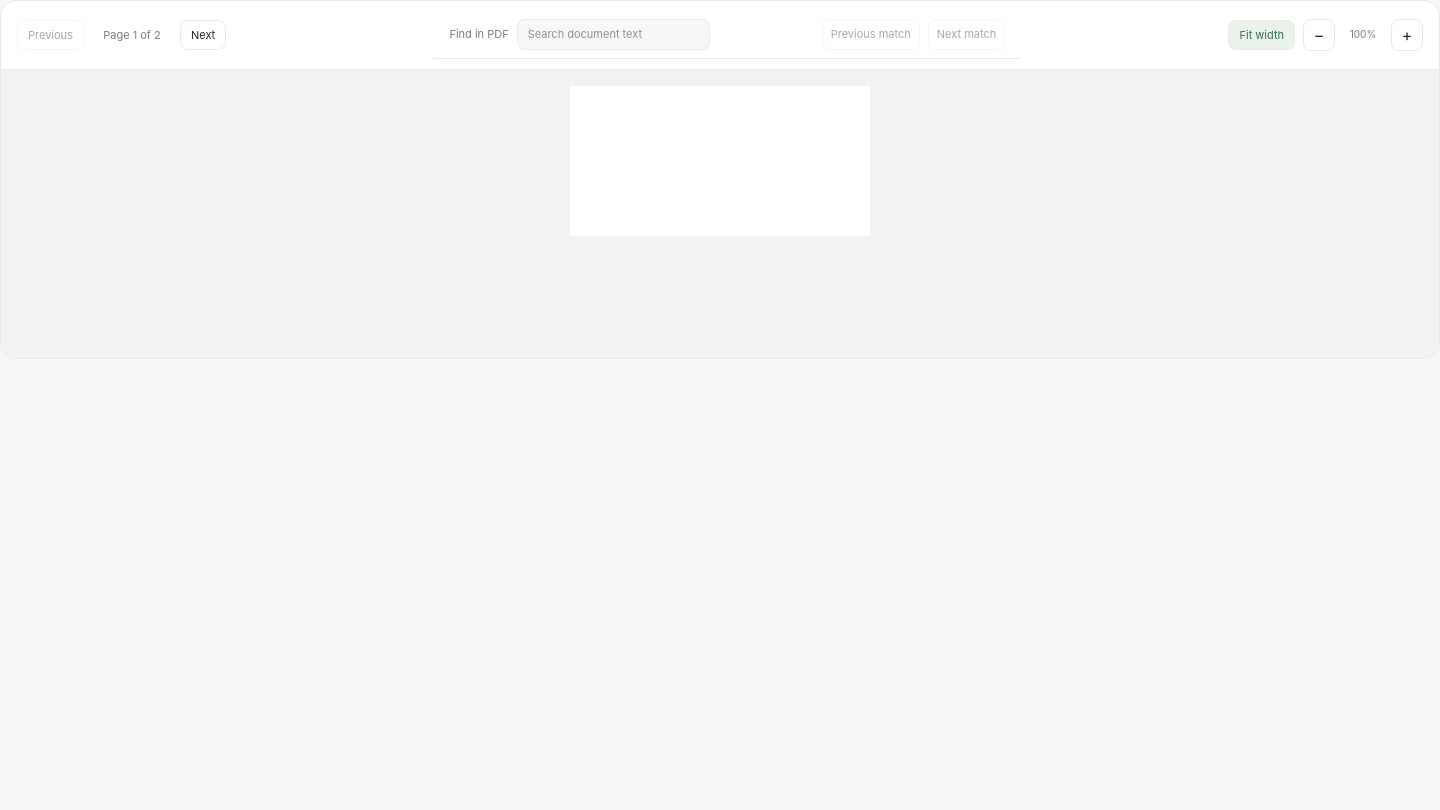
Scenario: PdfViewer › searches local page text and navigates between matching pages
Type "needle" into the search field named "Search PDF text".
click(613, 34); type("needle")  # box x1=517 y1=19 x2=710 y2=50
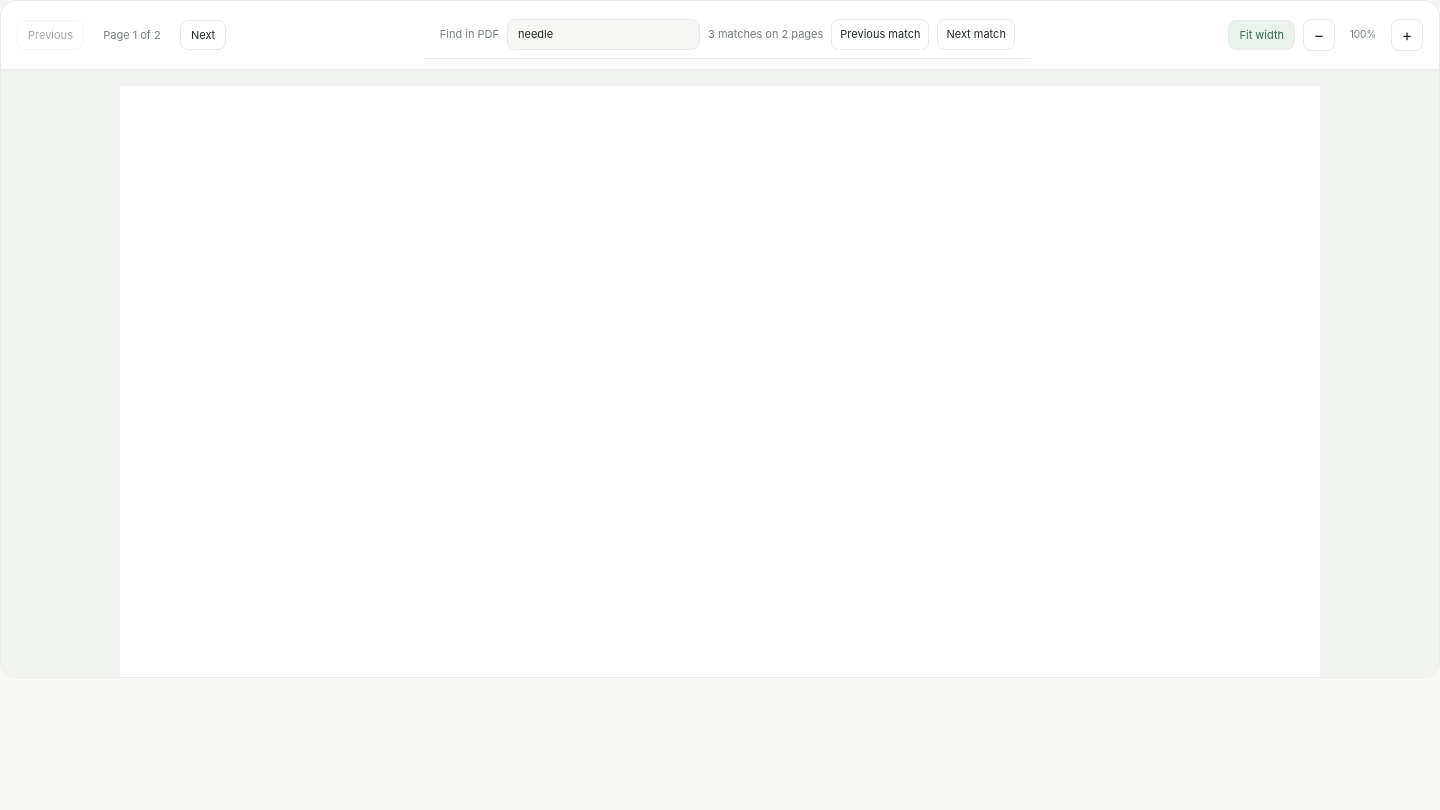
Result: the text "3 matches on 2 pages" is shown at x1=708 y1=26 x2=823 y2=42
Click the button with aria-label "Next PDF search result".
click(976, 34)  # box x1=937 y1=19 x2=1015 y2=50
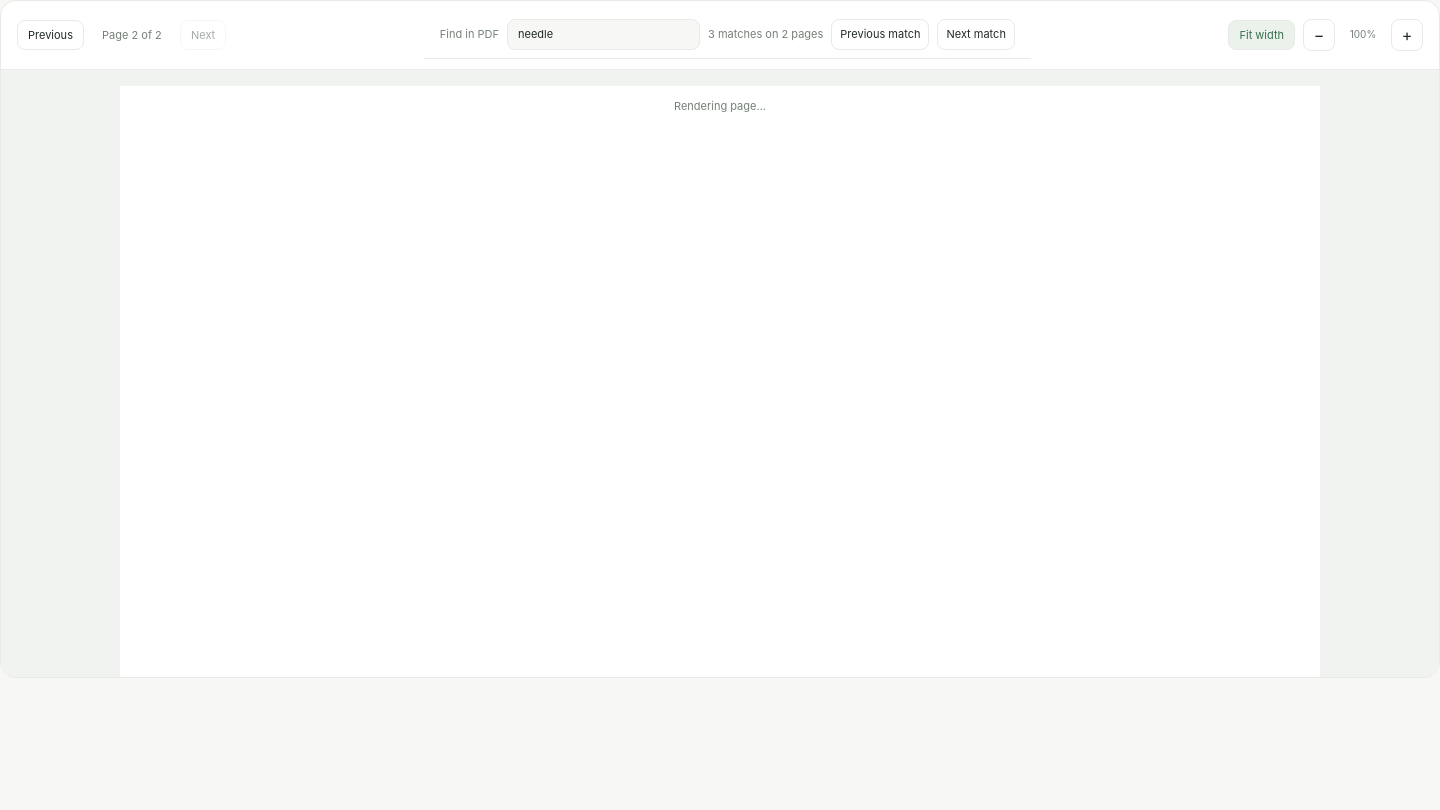
Result: the text "Page 2 of 2" is shown at x1=102 y1=28 x2=162 y2=42
Click the button with aria-label "Previous PDF page".
click(50, 35)  # box x1=17 y1=20 x2=84 y2=50
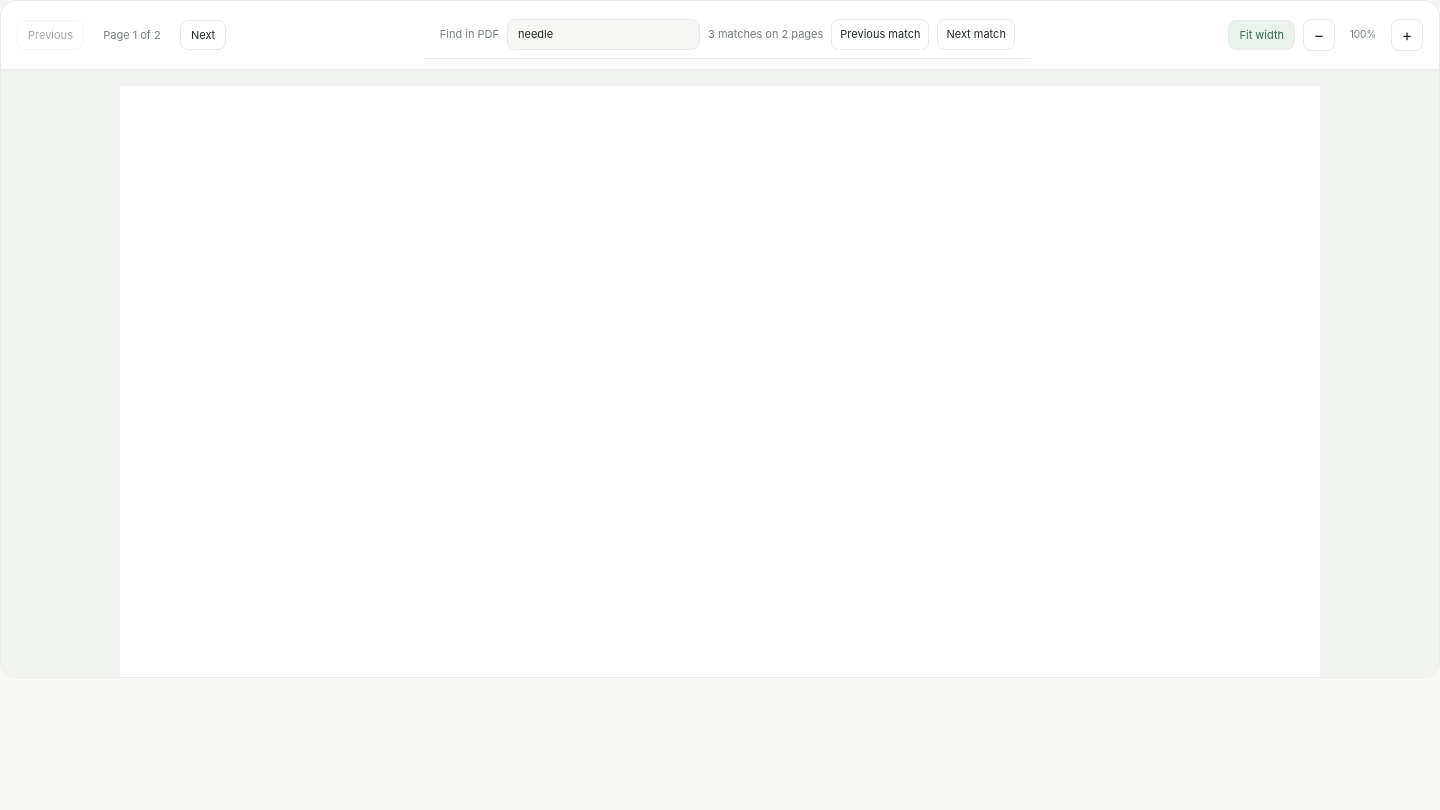
Result: the text "Page 1 of 2" is shown at x1=103 y1=28 x2=161 y2=42
